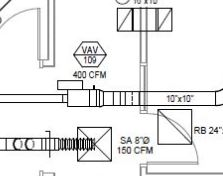VAV: (49, 75, 108, 111)
